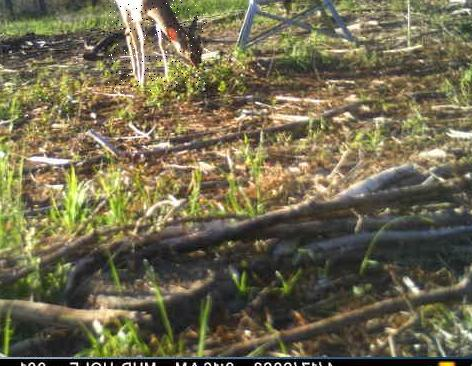Deer: (108, 0, 207, 92)
